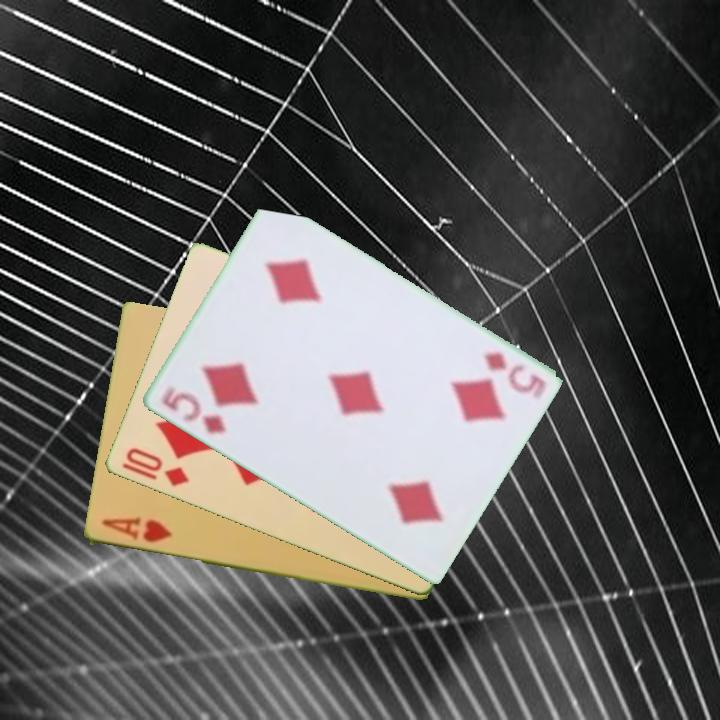10d: (118, 444, 192, 490)
5d: (157, 384, 230, 437), (479, 348, 548, 402)
Ah: (97, 514, 175, 546)
